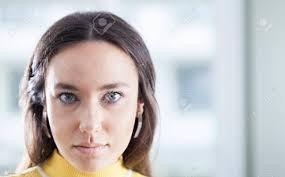white_female: (51, 31, 136, 176)
